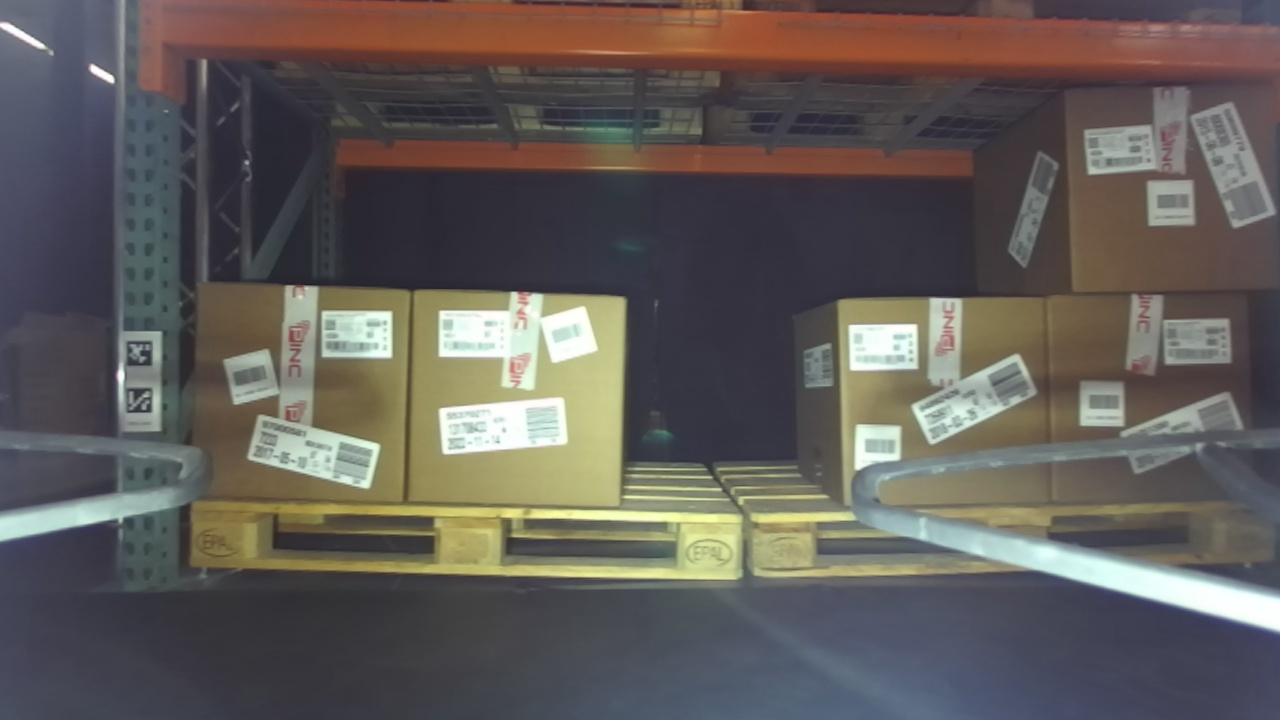box: (816, 280, 1066, 523), (177, 266, 418, 514), (404, 275, 647, 514), (1029, 285, 1271, 524), (1041, 72, 1279, 303)
